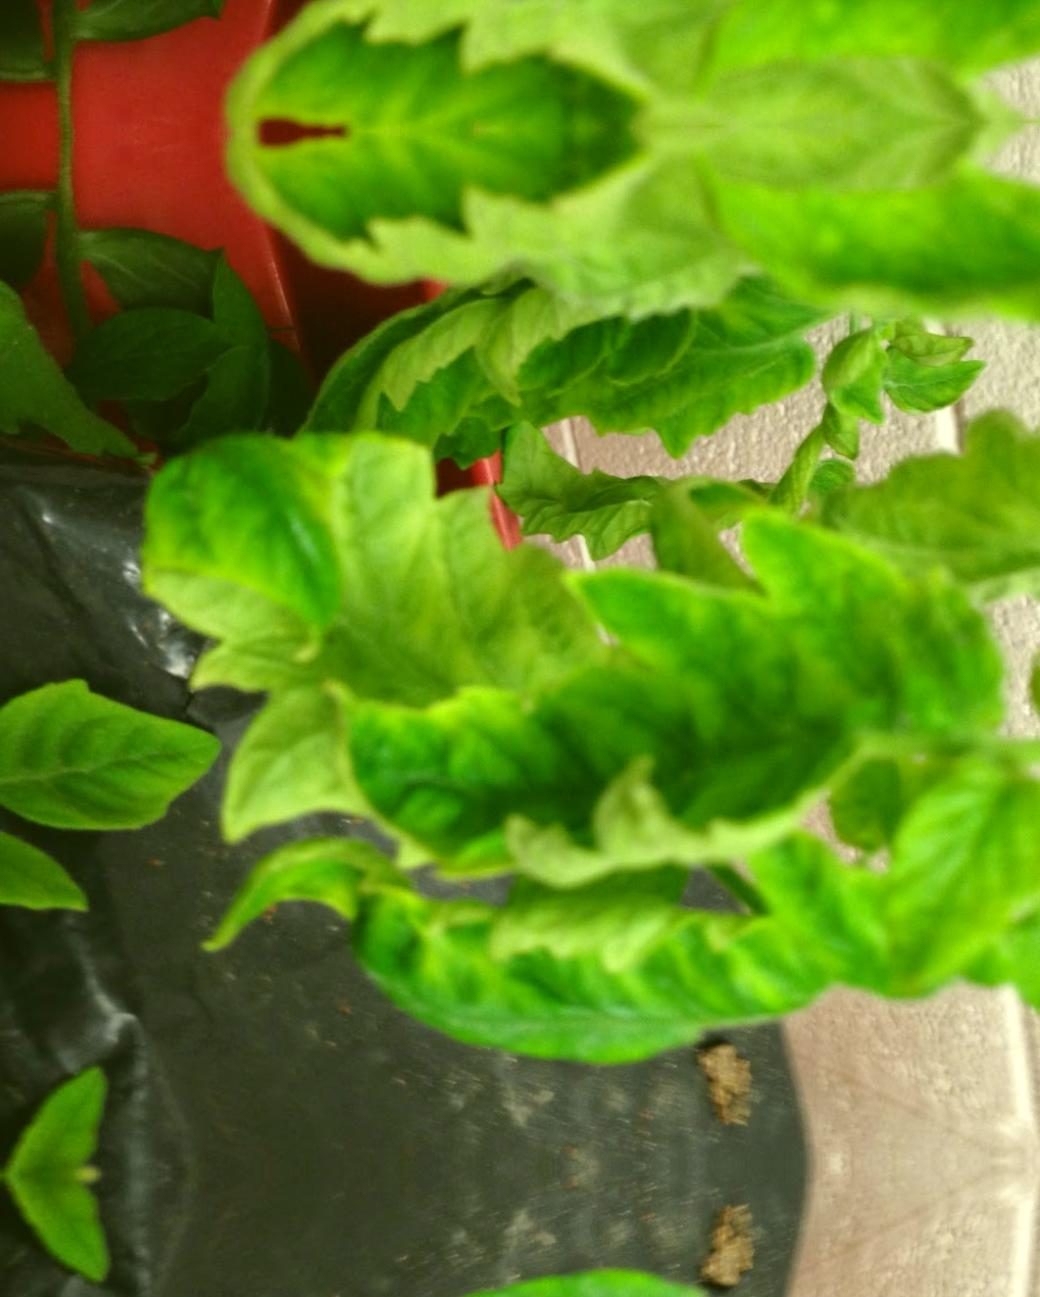Tomato leaf yellow virus: (295, 548, 1040, 902), (335, 875, 1040, 1146), (687, 159, 1040, 364), (0, 684, 214, 846)
